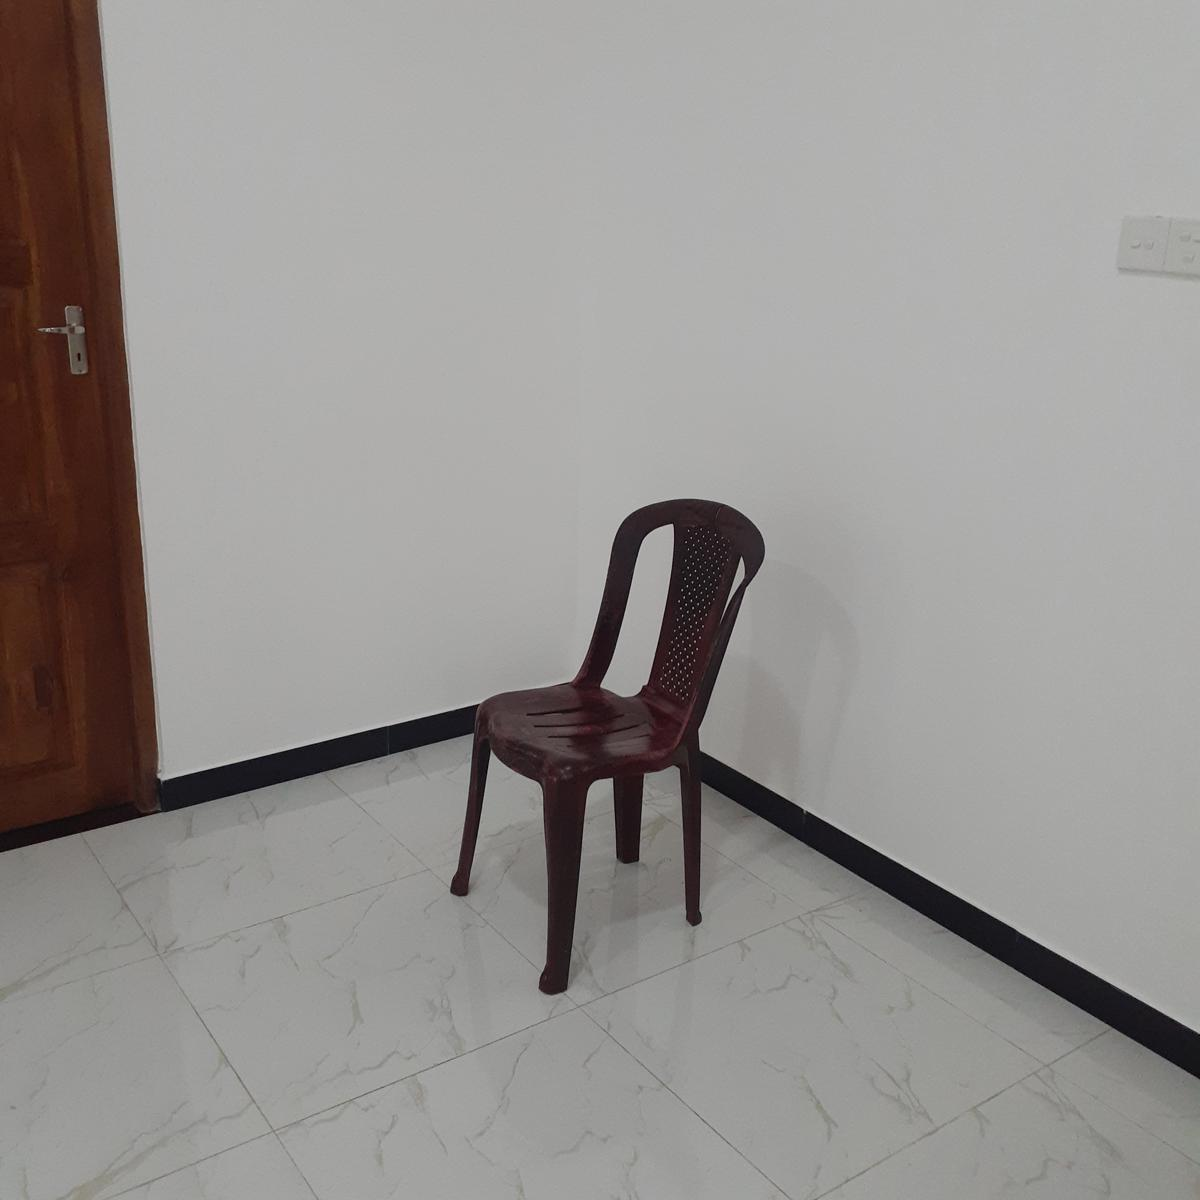Chair: (450, 493, 764, 997)
